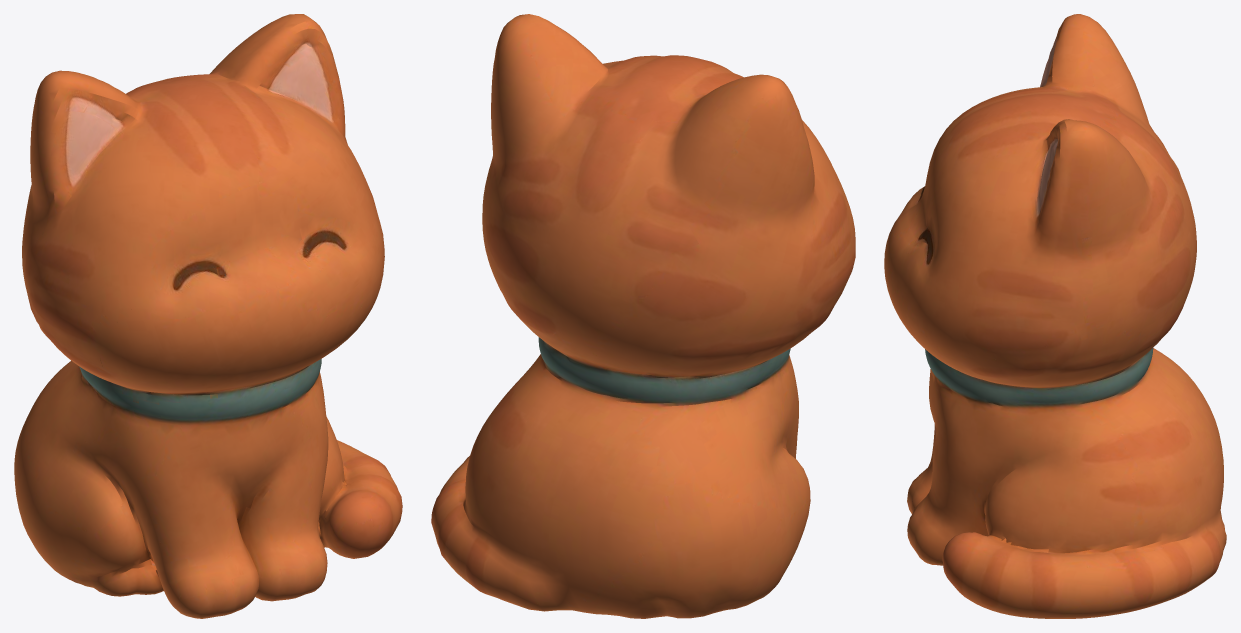
The model's file is Meshy_AI_model.glb.
3 renders of one model, left to right at view 1: azimuth 30°, elevation 25°; view 2: azimuth 150°, elevation 25°; view 3: azimuth 270°, elevation 25°, orthographic. The views are drawn at different scales.
Visible parts, largest first — view 1: Mesh0; view 2: Mesh0; view 3: Mesh0.
Boxes of the visible parts, x1=… form: Mesh0: x1=14, y1=14, x2=402, y2=618; Mesh0: x1=431, y1=14, x2=855, y2=618; Mesh0: x1=884, y1=14, x2=1226, y2=618.
Bounding box in the file's own units: 1.4 × 1.9 × 1.26.
1 material, 1 textured.
